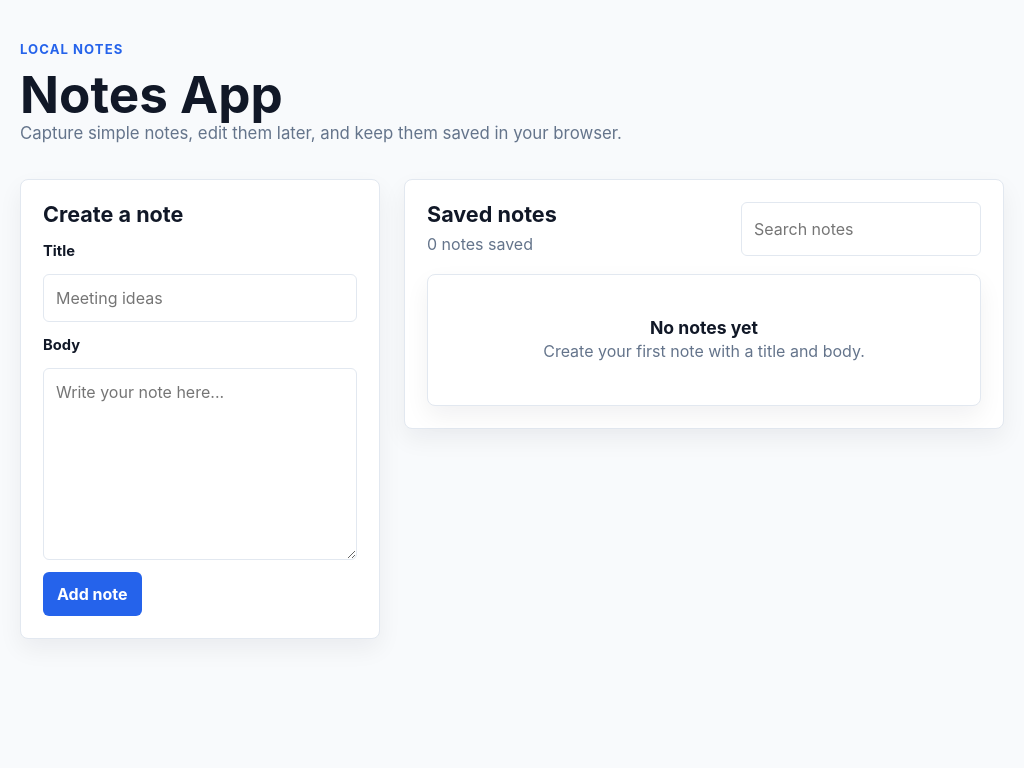
Scenario: Notes App › lets a user delete an existing note
In the field labelled "Title": (200, 298) [43,274,357,322], type "Temporary note"
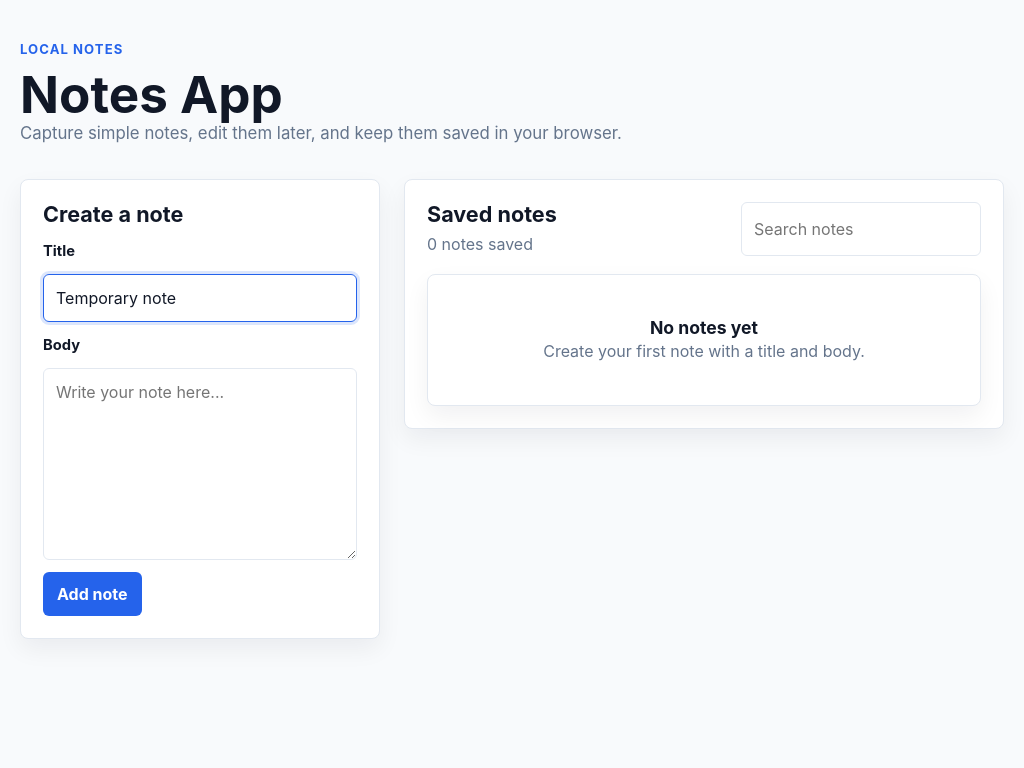
In the text box labelled "Body": (200, 464) [43,368,357,560], type "This note will be removed."
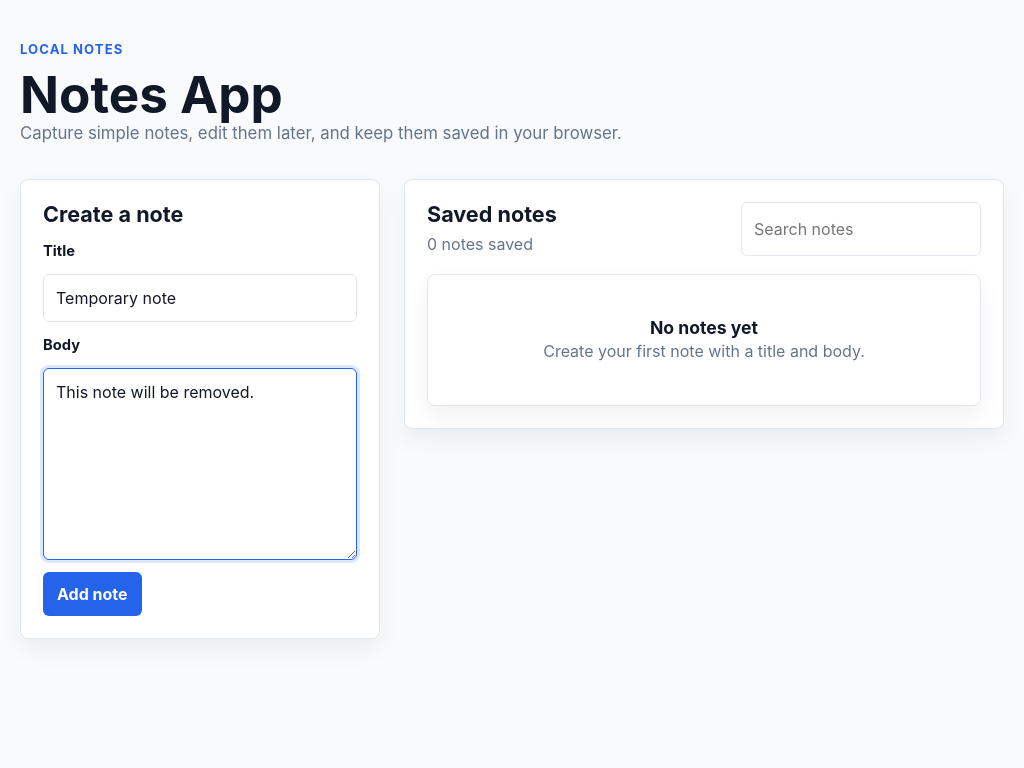
Click the button "Add note": (92, 594) [43,572,142,616]
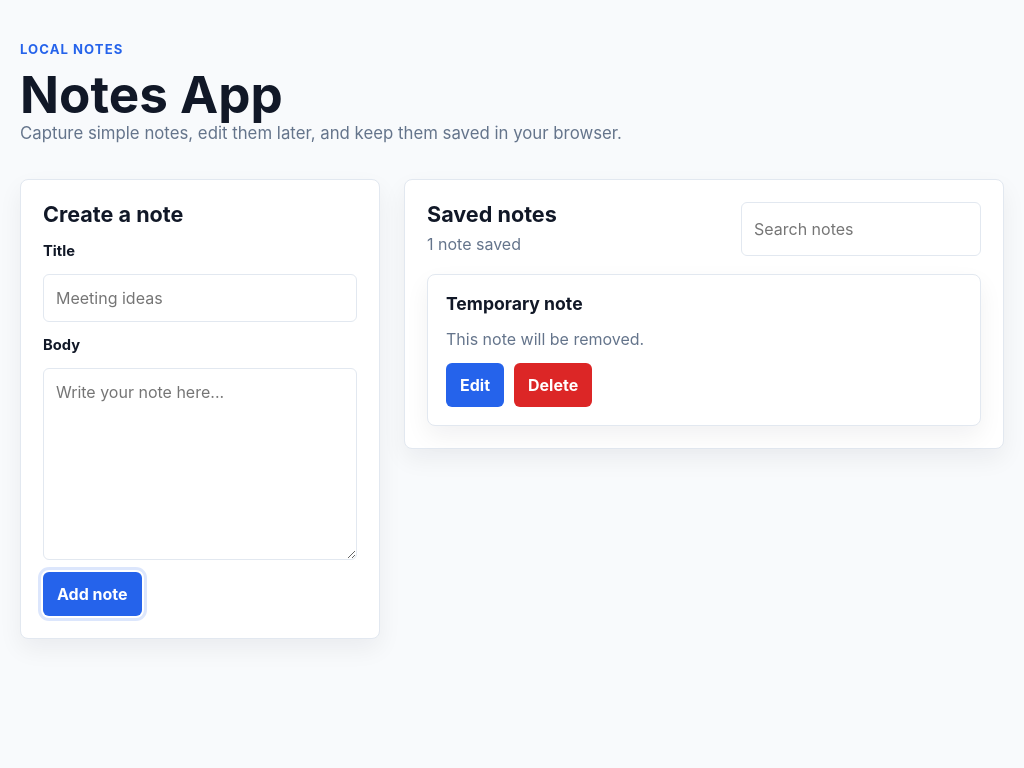
Click the button "Delete": (553, 385) [514,363,592,407]
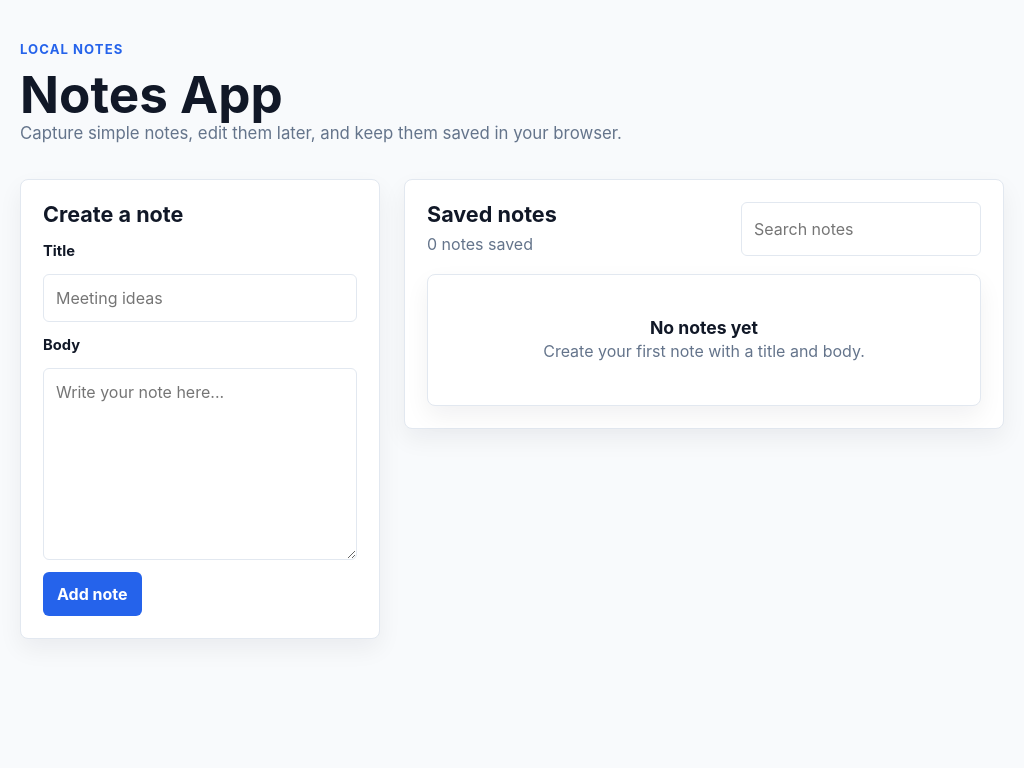
Check: the heading "Temporary note" is gone
Check: the text "This note will be removed." is gone
Check: the heading "No notes yet" is shown, box [650,316,758,338]
